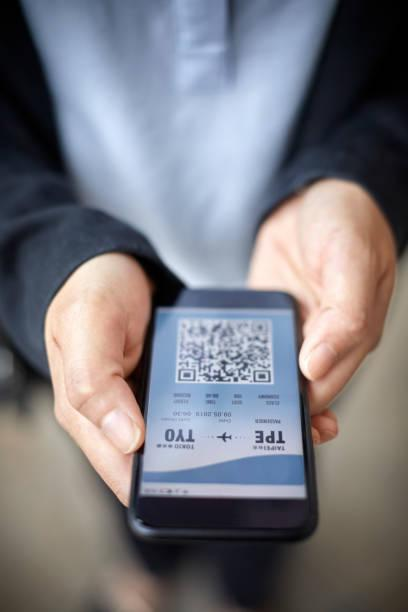Finder pattern: (249, 363, 277, 385), (173, 364, 199, 384), (250, 320, 272, 336)
